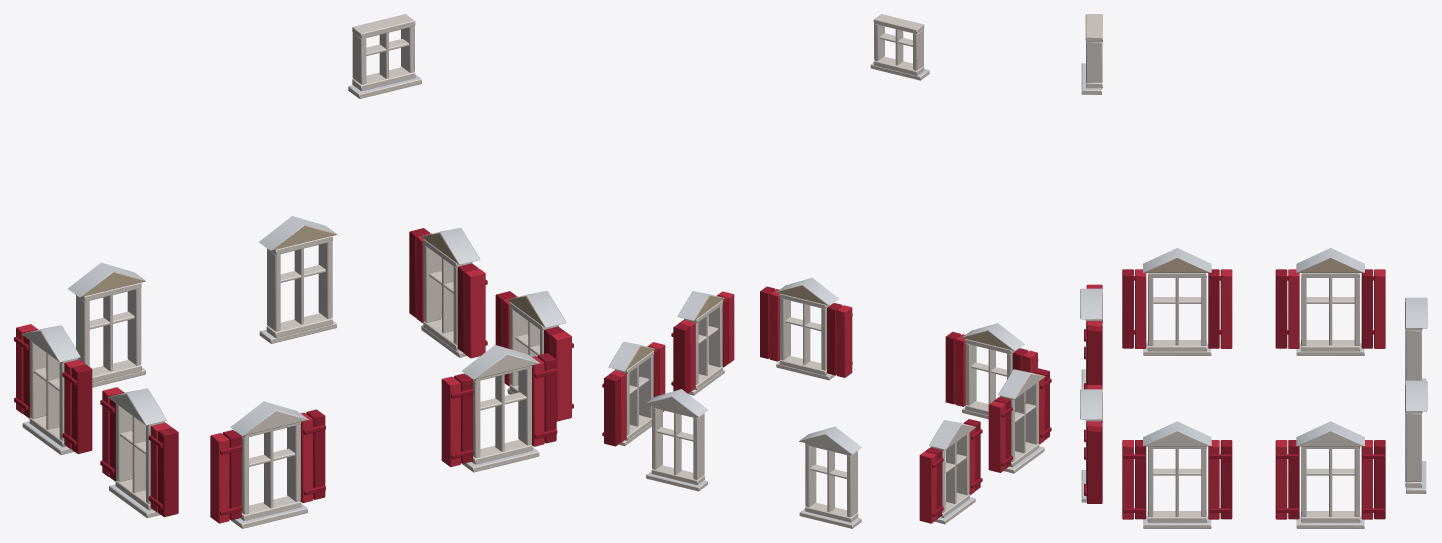
Rendered from CandyHouse_Butter_Trim.glb.
The picture shows the model from 3 angles, left to right: view 1: azimuth 30°, elevation 25°; view 2: azimuth 150°, elevation 25°; view 3: azimuth 270°, elevation 25°; orthographic projection. The views are drawn at different scales.
Visible parts, largest first — view 1: CandyHouse_Butter_Trim; view 2: CandyHouse_Butter_Trim; view 3: CandyHouse_Butter_Trim.
Part boxes in pixels (x1,y1,x2,y2): CandyHouse_Butter_Trim: [14, 14, 573, 528]; CandyHouse_Butter_Trim: [602, 14, 1051, 528]; CandyHouse_Butter_Trim: [1080, 14, 1427, 528].
Bounding box in the file's own units: 25.4 × 26.74 × 20.4.
